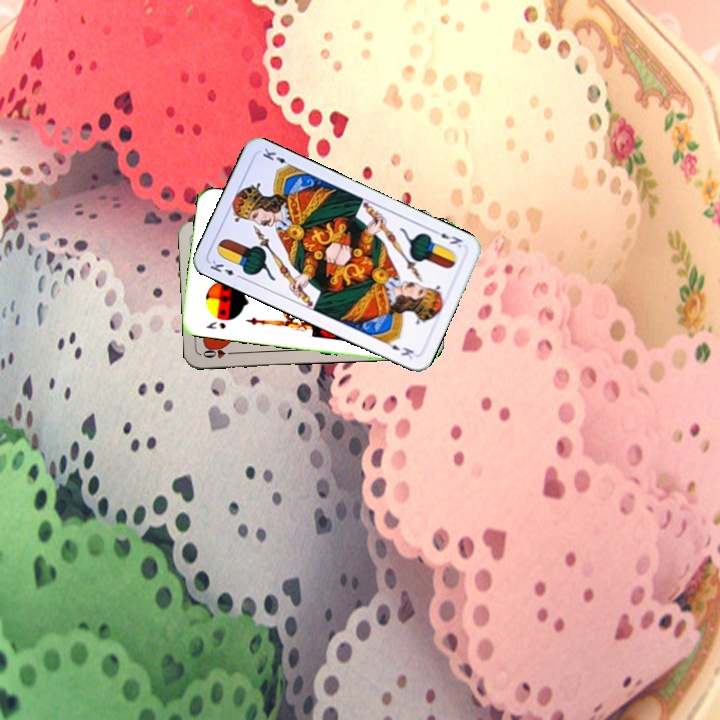EK: (206, 256, 245, 282), (429, 226, 465, 250)
HO: (199, 344, 239, 361)
SK: (202, 317, 228, 332)
